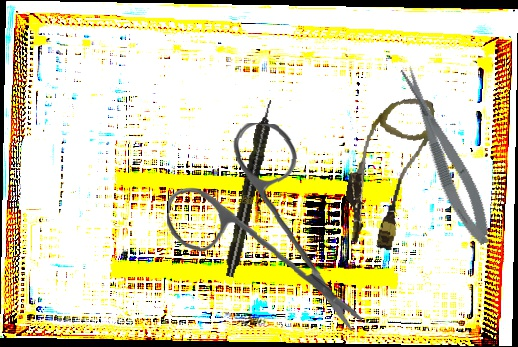Cannula: (337, 89, 437, 254)
Handpiece: (221, 98, 279, 279)
Iris Scissors: (161, 118, 373, 332)
Micro Scissor: (393, 60, 499, 251)
